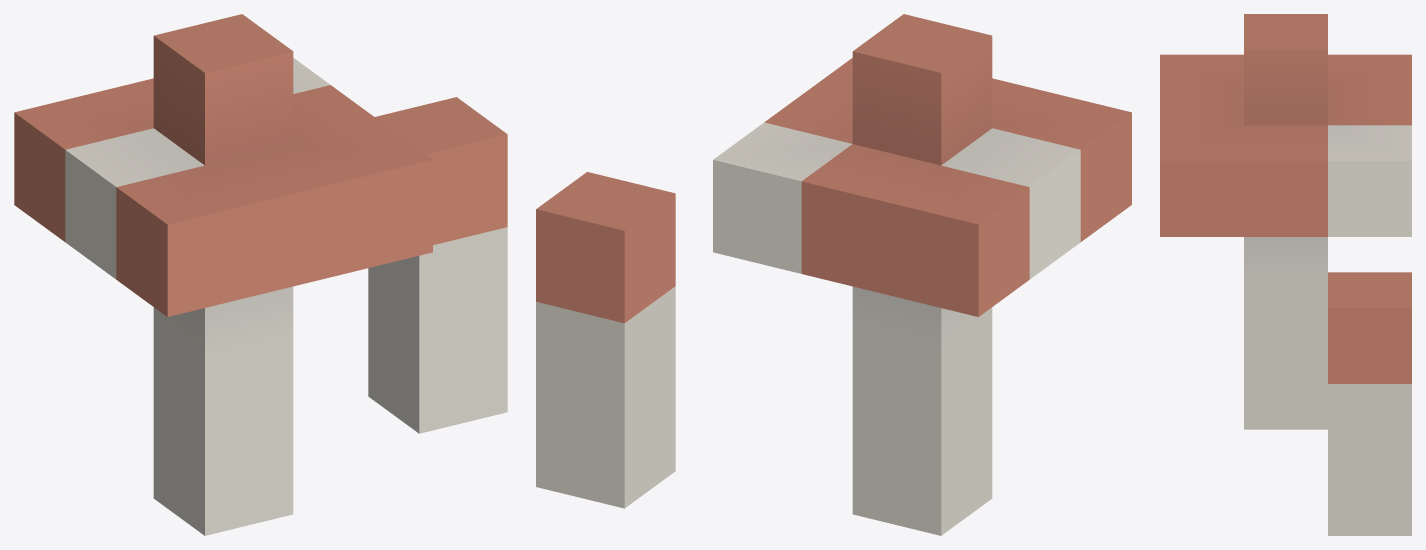
Rendered from decor_mushroom_a.glb.
The picture shows the model from 3 angles, left to right: view 1: azimuth 30°, elevation 25°; view 2: azimuth 150°, elevation 25°; view 3: azimuth 270°, elevation 25°; orthographic projection. The views are drawn at different scales.
Parts seen in each view (by area): view 1: decor_mushroom_a; view 2: decor_mushroom_a; view 3: decor_mushroom_a.
Part boxes in pixels (box(x1,y1,x2,y2)): decor_mushroom_a: box(14, 14, 507, 535); decor_mushroom_a: box(536, 14, 1131, 535); decor_mushroom_a: box(1160, 14, 1411, 535).
Bounding box in the file's own units: 0.3125 × 0.3125 × 0.1875.
